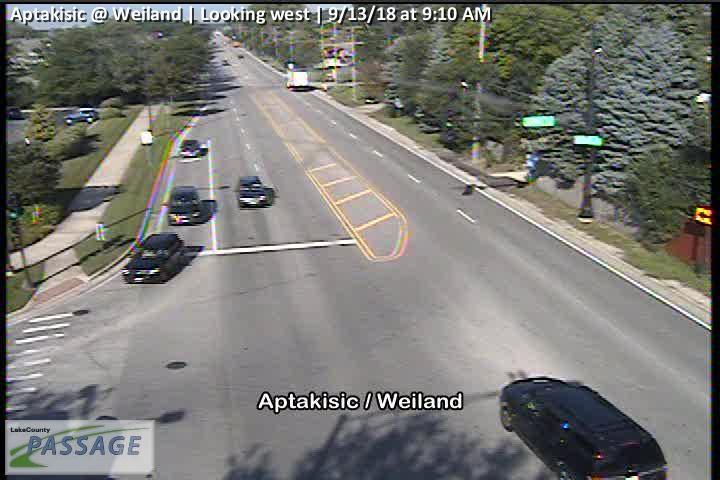Bus: (233, 41, 241, 47)
SUV: (497, 376, 667, 480), (120, 233, 184, 286), (64, 108, 98, 123)
Sedan: (162, 184, 202, 224), (236, 176, 268, 208), (179, 139, 201, 156), (221, 59, 229, 65)
Truck: (286, 69, 309, 91)
